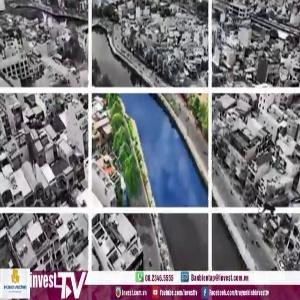drone: (240, 181, 296, 237)
